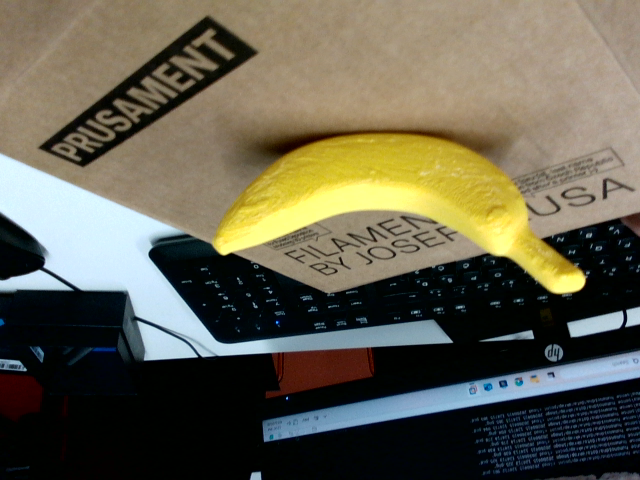banana: (212, 113, 598, 295)
